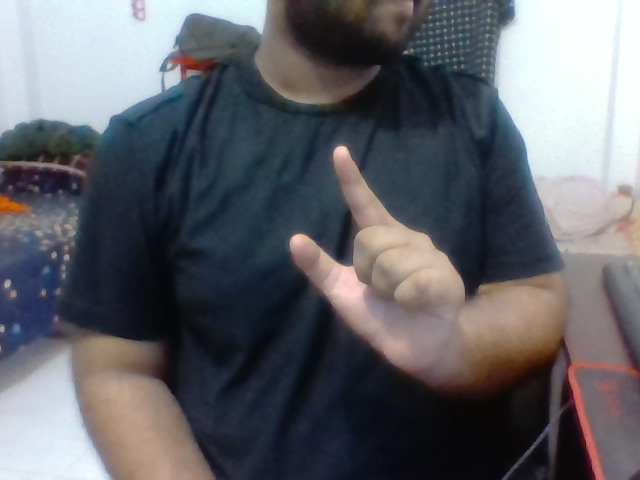J: (281, 137, 481, 366)
